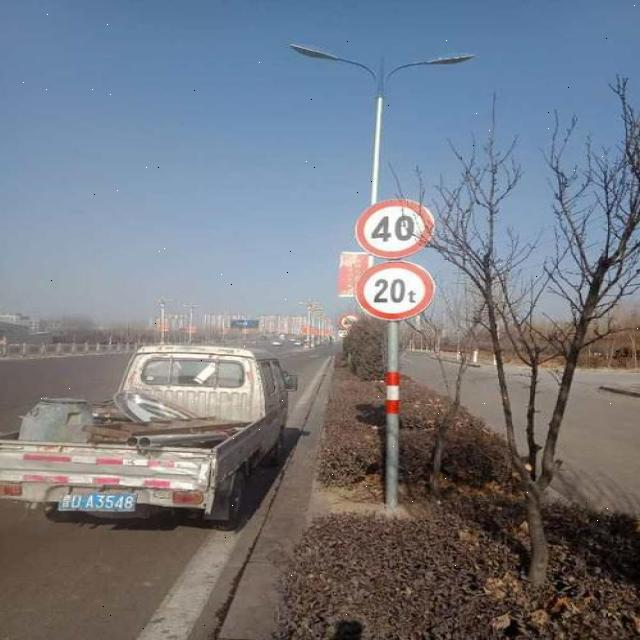speed limit 40: (354, 199, 434, 258)
